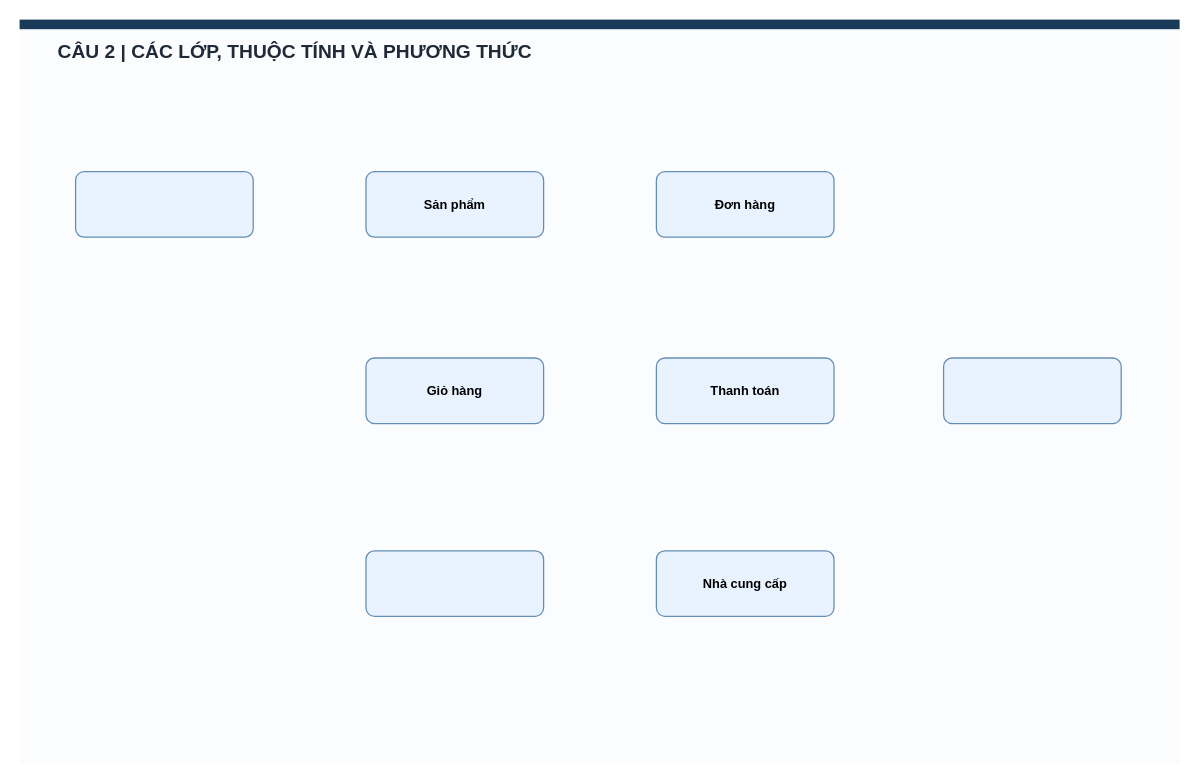
The diagram is 1194 pixels wide and 778 high, and some of its shapes have lost their labels. The centre of each missing label's shape, as x and y in pixels:
Email: pixel 1032 390
Khách hàng: pixel 164 204
Đơn hàng đã giao: pixel 454 583
